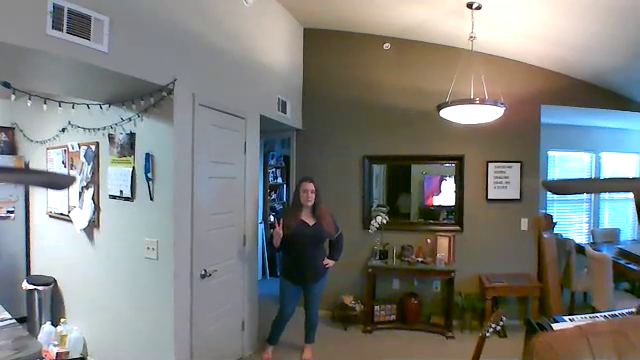peace: (270, 215, 288, 245)
